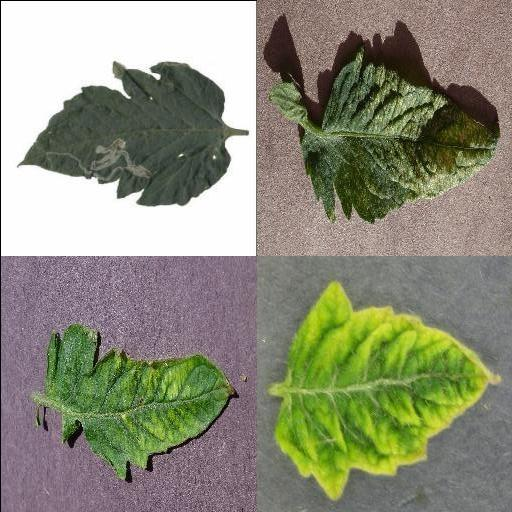Leaf Miner: (17, 58, 231, 206)
Mosaic Virus: (43, 321, 237, 481)
Spider Mites: (300, 49, 498, 225)
Yellow Leaf Curl Virus: (272, 282, 500, 502)
